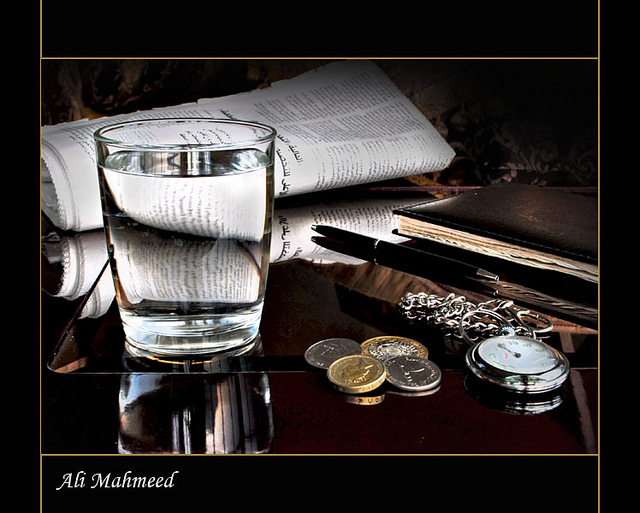glass of water: (81, 118, 281, 359)
